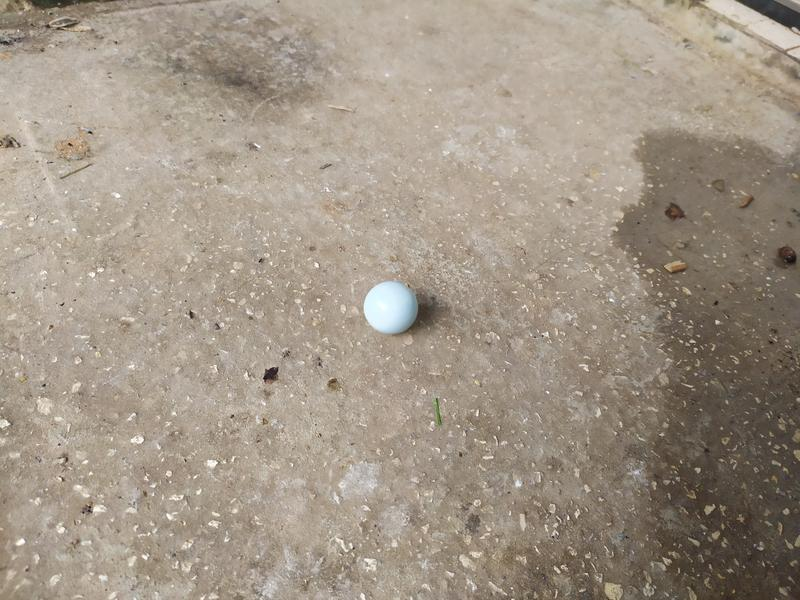Warning: (362, 279, 421, 337)
